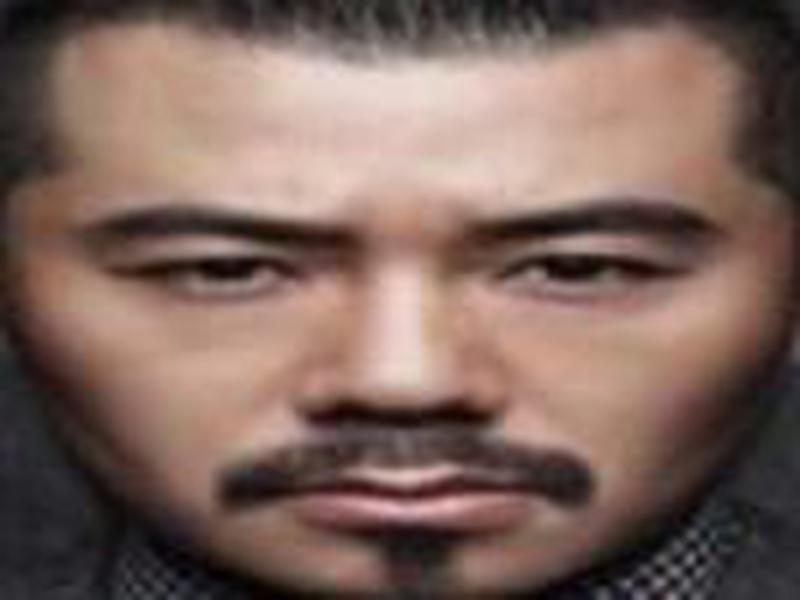without_mask: (34, 42, 768, 589)
